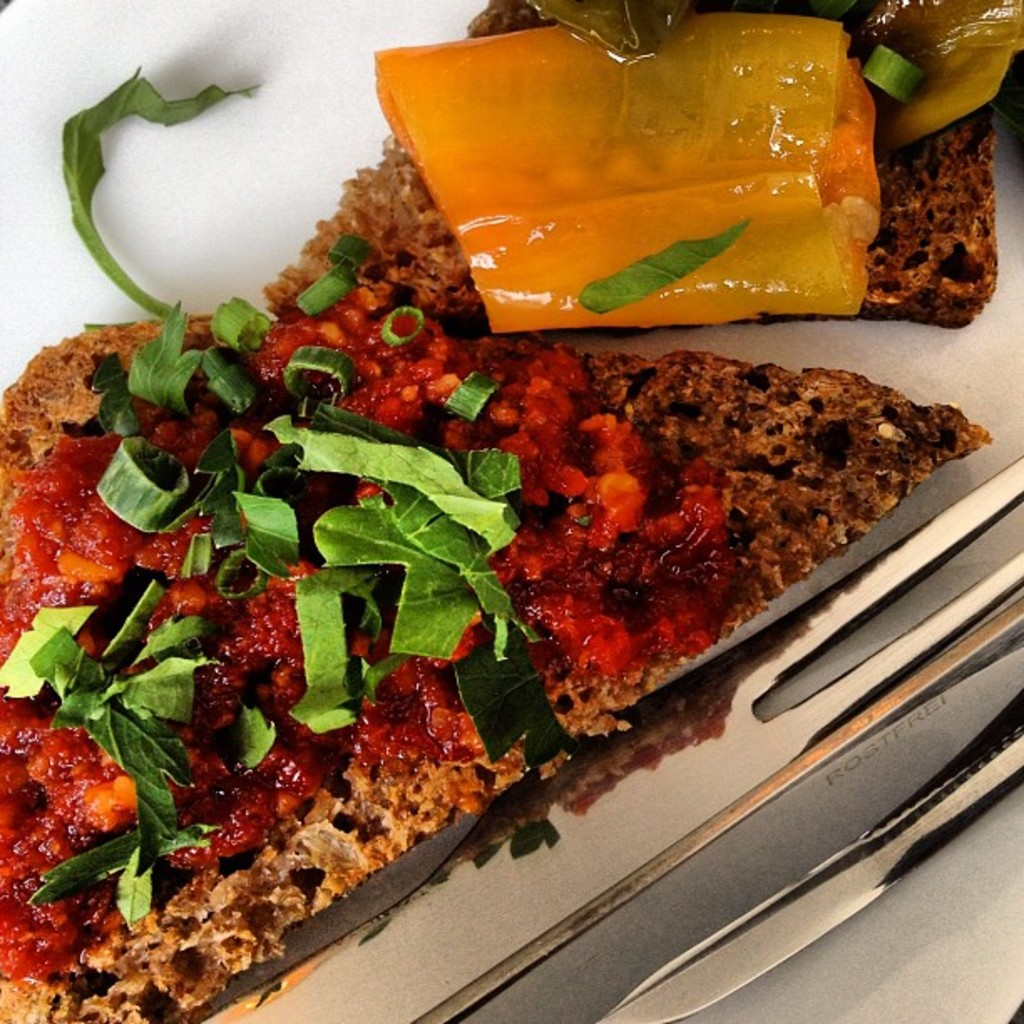Pizza: (25, 138, 1008, 940), (257, 0, 1022, 353)
